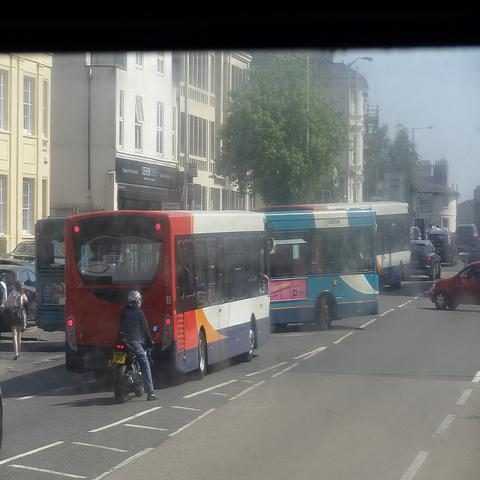bus: (62, 208, 274, 385), (266, 208, 380, 329), (34, 217, 66, 333), (374, 197, 412, 292)
car: (428, 259, 480, 313), (0, 257, 36, 333), (8, 242, 66, 268), (410, 239, 440, 279), (429, 232, 458, 268), (452, 224, 478, 252), (461, 247, 479, 266)
motorcycle: (111, 336, 143, 404)
